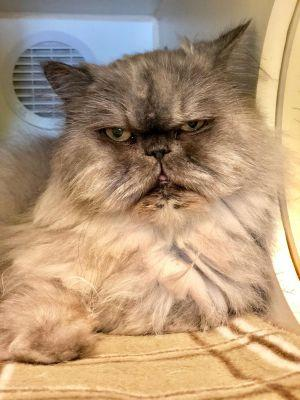persian: (36, 10, 269, 245)
